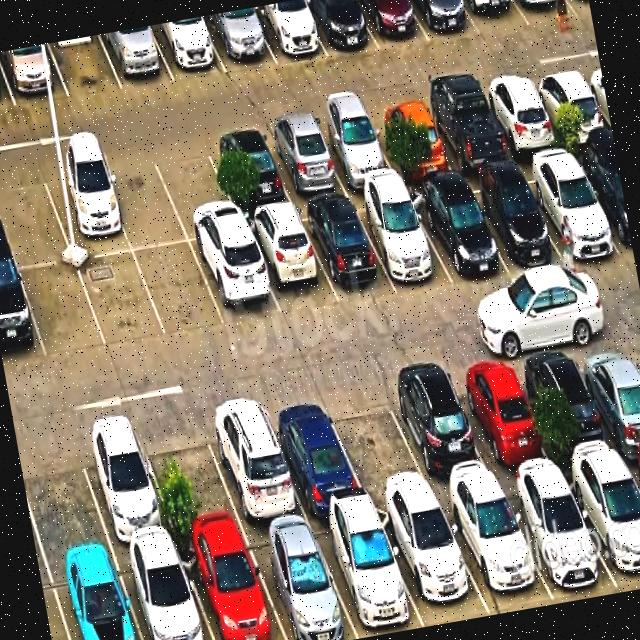empty: (135, 411, 244, 541), (321, 378, 433, 503), (16, 429, 111, 564), (150, 138, 242, 241), (99, 150, 187, 250), (133, 242, 225, 337), (77, 251, 166, 348), (19, 262, 106, 358), (0, 167, 72, 268), (48, 34, 122, 97)
occupied: (380, 364, 498, 496), (500, 474, 618, 600), (438, 485, 554, 613), (309, 508, 423, 638), (375, 499, 490, 626), (445, 353, 557, 483), (199, 394, 307, 528), (242, 521, 358, 640), (260, 389, 368, 516), (72, 419, 176, 550), (518, 341, 623, 470), (177, 532, 286, 640), (516, 154, 622, 261), (459, 170, 562, 273), (406, 181, 509, 284), (242, 208, 338, 317), (562, 459, 640, 592), (297, 198, 395, 303), (351, 190, 453, 290), (114, 542, 213, 640), (39, 159, 132, 259), (570, 334, 640, 458), (191, 234, 281, 325), (48, 553, 142, 640), (420, 89, 513, 174), (204, 128, 293, 215), (260, 119, 347, 202), (311, 110, 398, 191), (366, 100, 455, 178), (478, 77, 564, 157), (571, 147, 633, 255), (529, 68, 613, 146), (149, 16, 226, 81), (249, 0, 327, 63), (100, 25, 174, 89), (202, 8, 275, 72), (0, 266, 46, 367), (300, 0, 378, 56), (0, 43, 68, 106), (357, 0, 429, 50), (410, 0, 479, 41), (460, 0, 529, 36), (514, 0, 578, 25)
